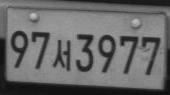3: (75, 34, 94, 72)
7: (119, 35, 139, 74), (141, 36, 160, 75), (31, 31, 50, 69)
9: (97, 33, 117, 72), (9, 29, 29, 67)
서: (52, 39, 71, 71)
